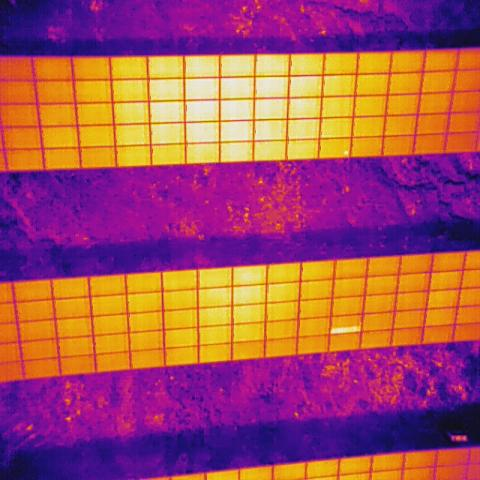fault: (330, 323, 364, 335), (344, 147, 350, 159)
